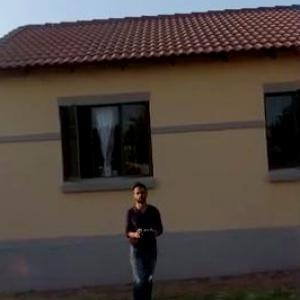follow: (122, 174, 170, 299)
